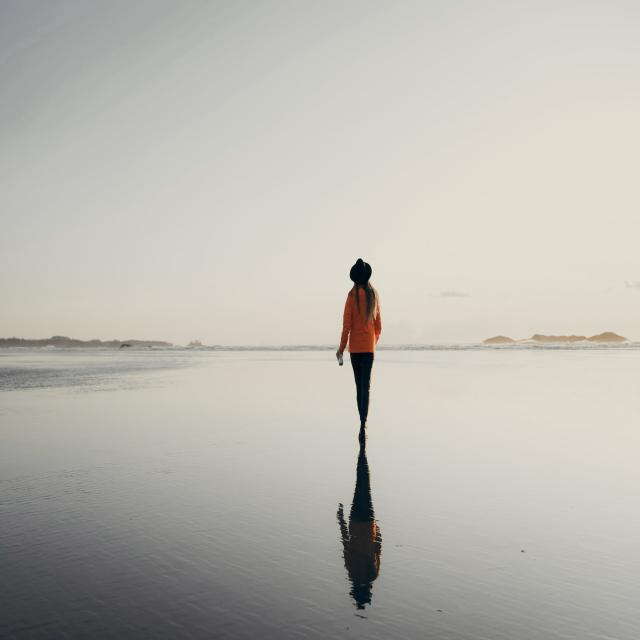adult: (335, 255, 383, 451)
